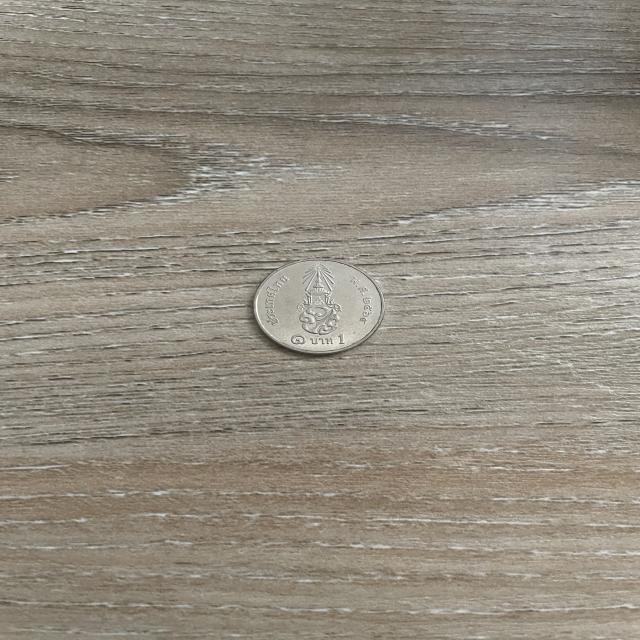1 Bath: (247, 255, 396, 362)
